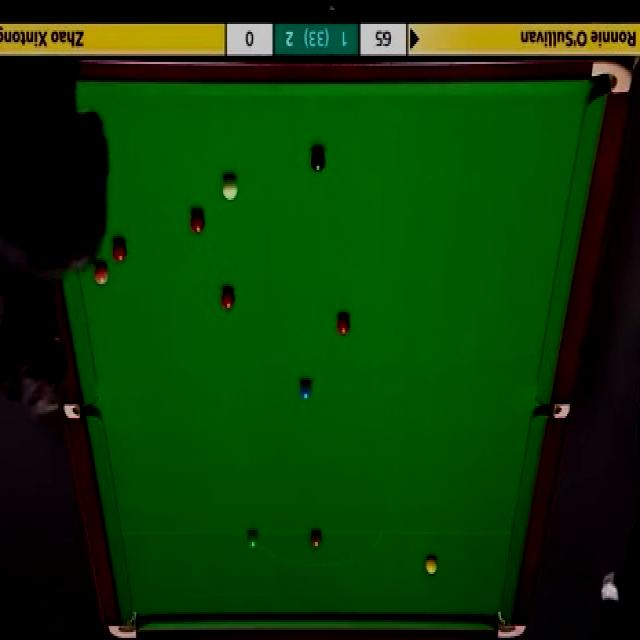black-ball: (310, 150, 326, 175)
blue-ball: (299, 379, 312, 401)
brown-ball: (310, 530, 322, 547)
green-ball: (247, 530, 258, 550)
pink-ball: (92, 262, 109, 287)
red-ball: (189, 210, 207, 235), (220, 288, 235, 313), (112, 241, 127, 262), (337, 313, 350, 336)
white-ball: (221, 175, 240, 202)
yellow-ball: (424, 554, 438, 574)
